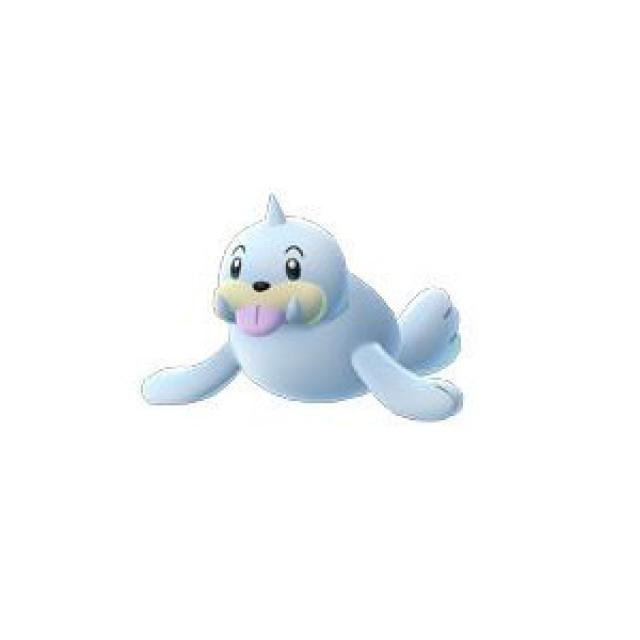Seel: (184, 206, 461, 430)
